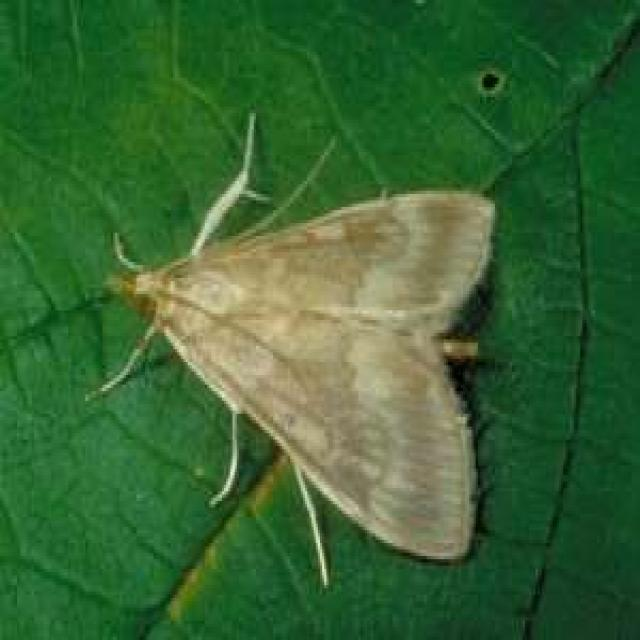cornborer-Adult-: (66, 106, 527, 600)
